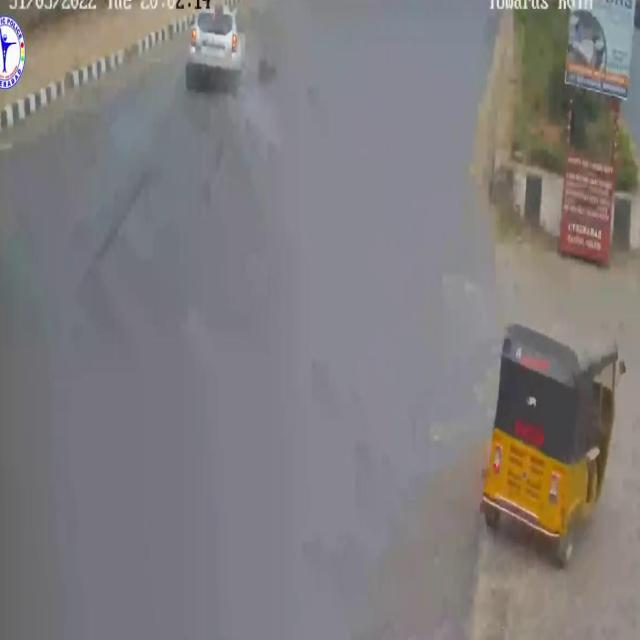accident: (179, 0, 281, 100)
